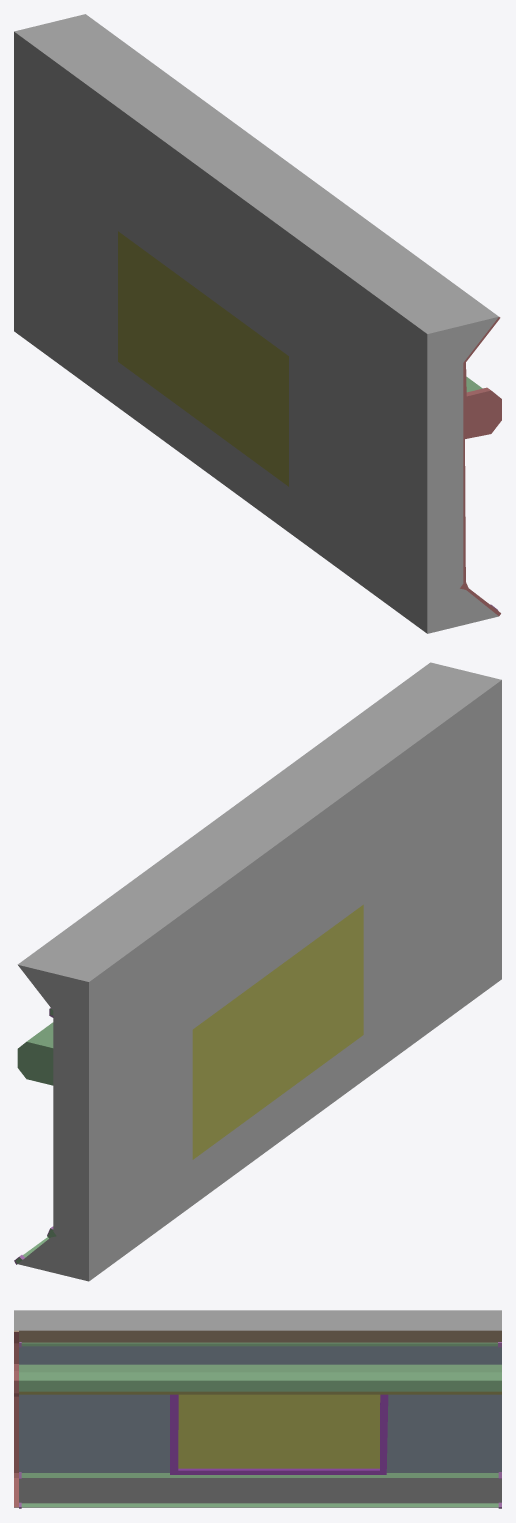
Rendered from Wall_Window.fbx.
3 views of the same model, one above another, from view 1: azimuth 30°, elevation 25°; view 2: azimuth 150°, elevation 25°; view 3: azimuth 270°, elevation 25° (orthographic). The views are drawn at different scales.
Parts seen in each view (by area): view 1: Wall_Window; view 2: Wall_Window; view 3: Wall_Window.
Part boxes in pixels (x1,y1,x2,y2): Wall_Window: (14,14,501,633); Wall_Window: (14,662,501,1281); Wall_Window: (14,1310,501,1508).
Bounding box in the file's own units: 105 × 402 × 1000.
